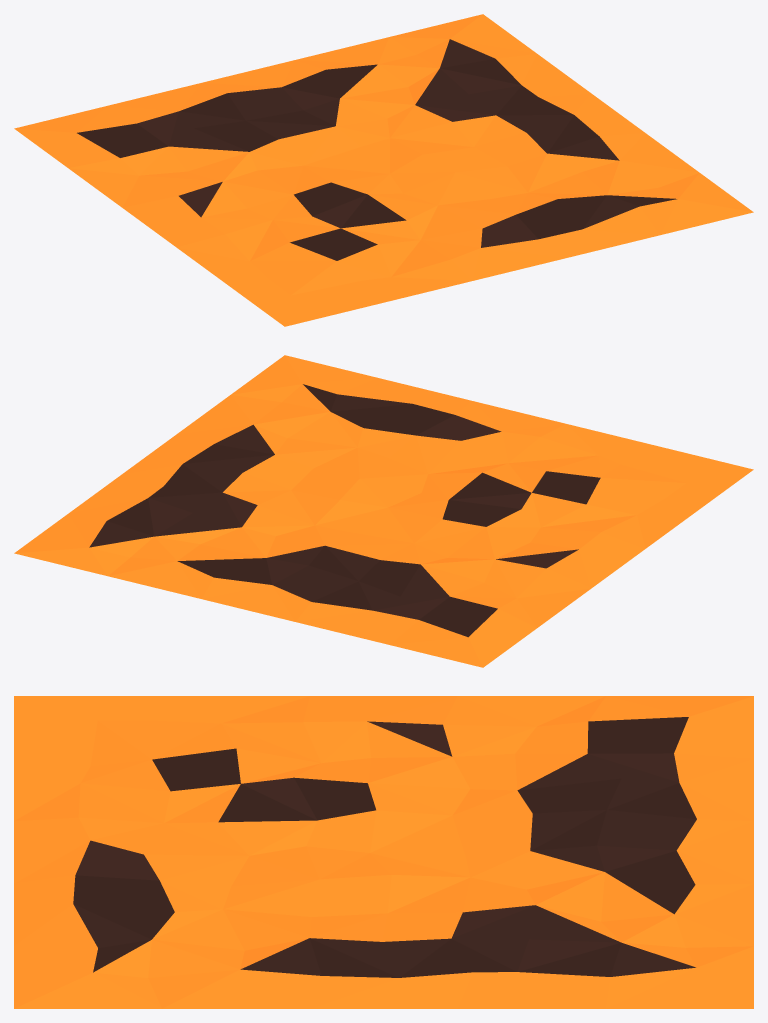
The model's file is ground_lava_c.glb.
The picture shows the model from 3 angles, top to bottom: view 1: azimuth 30°, elevation 25°; view 2: azimuth 150°, elevation 25°; view 3: azimuth 270°, elevation 25°; orthographic projection. The views are drawn at different scales.
Parts seen in each view (by area): view 1: ground_lava_c; view 2: ground_lava_c; view 3: ground_lava_c.
Boxes of the visible parts, x1,y1,x2,y2 form: ground_lava_c: (14,14,753,326); ground_lava_c: (14,355,753,667); ground_lava_c: (14,696,753,1008).
Bounding box in the file's own units: 4 × 0.03 × 4.
